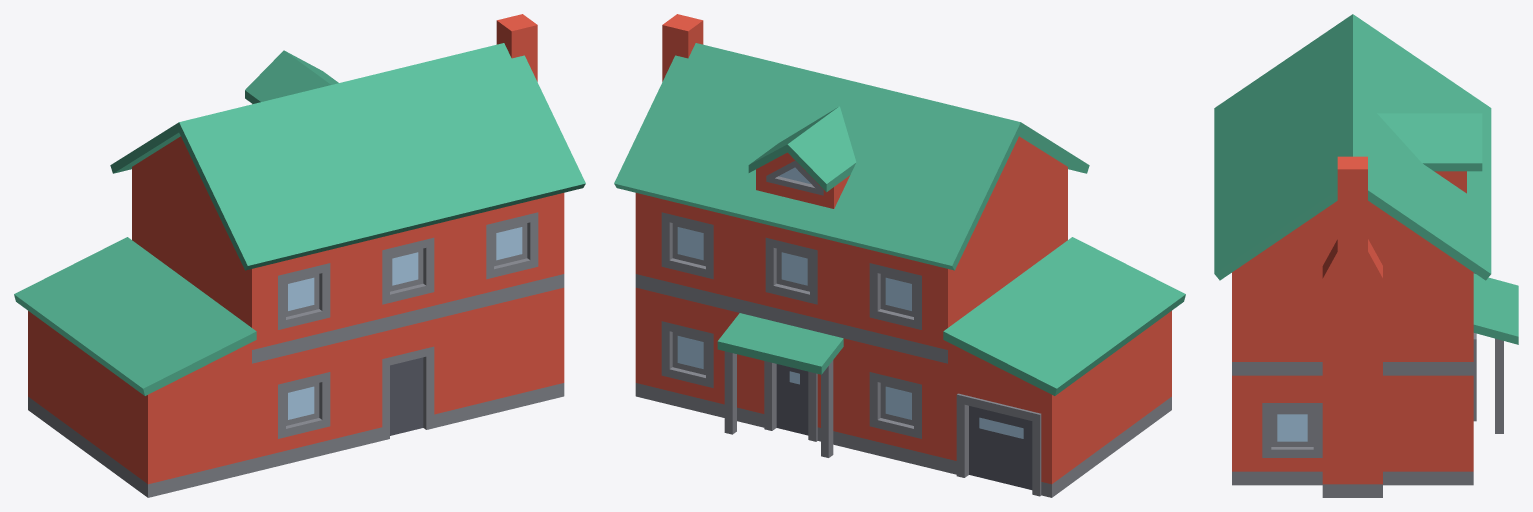
Rendered from house_type08.fbx.
3 views of the same model, side by side, from view 1: azimuth 30°, elevation 25°; view 2: azimuth 150°, elevation 25°; view 3: azimuth 270°, elevation 25° (orthographic).
Parts seen in each view (by area): view 1: house_type08; view 2: house_type08; view 3: house_type08.
Part boxes in pixels (bbox=[...]): house_type08: bbox=[14, 14, 585, 497]; house_type08: bbox=[614, 14, 1185, 497]; house_type08: bbox=[1214, 14, 1518, 497].
Size of the model in its own units: 17.36 by 12 by 10.06.
